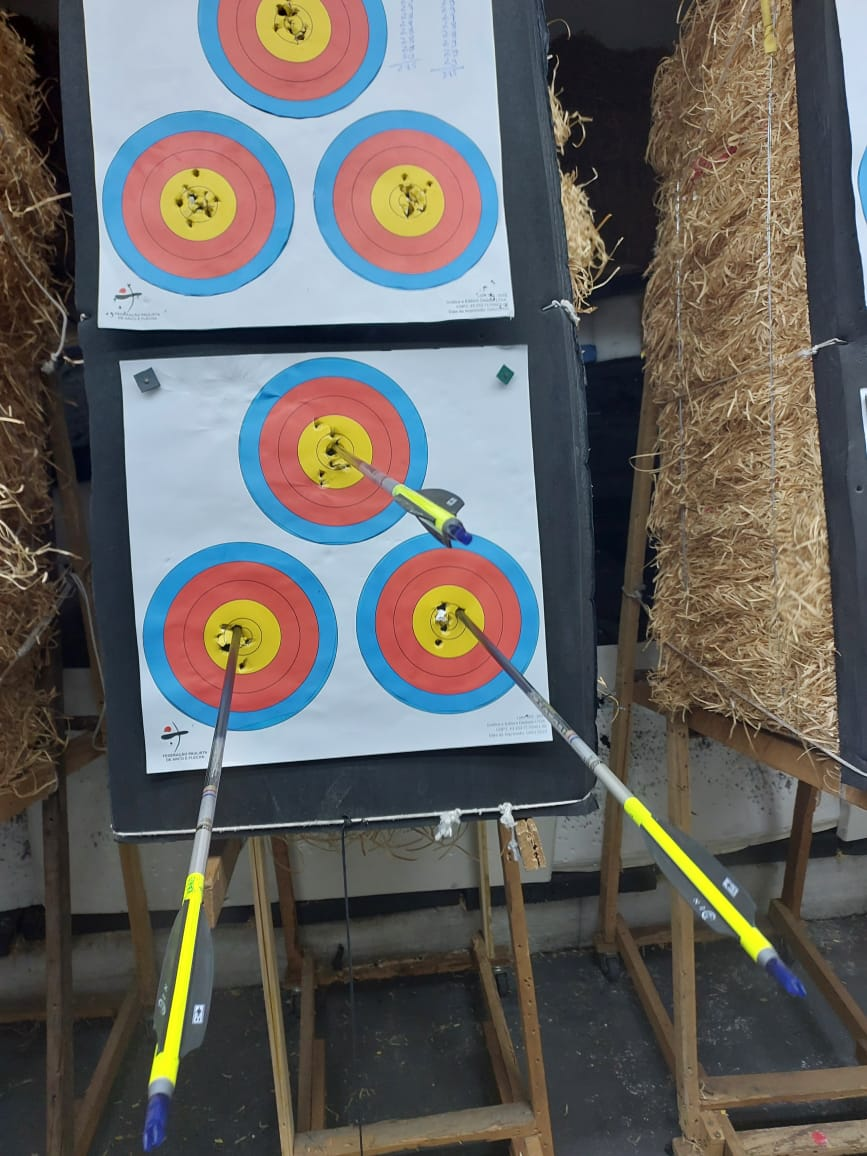10: (144, 544, 352, 726), (244, 365, 441, 536)
9 linha 10: (365, 539, 556, 722)
